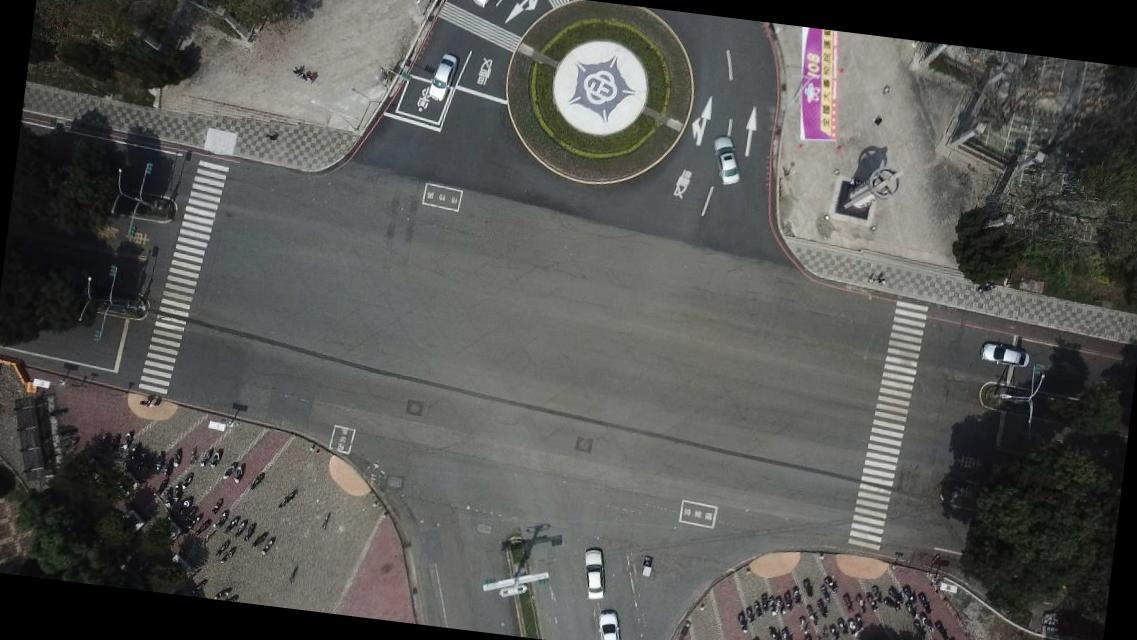vehicle: (708, 134, 744, 186), (426, 52, 460, 102), (580, 546, 610, 600), (979, 341, 1030, 368), (594, 608, 625, 639), (471, 0, 497, 7)
